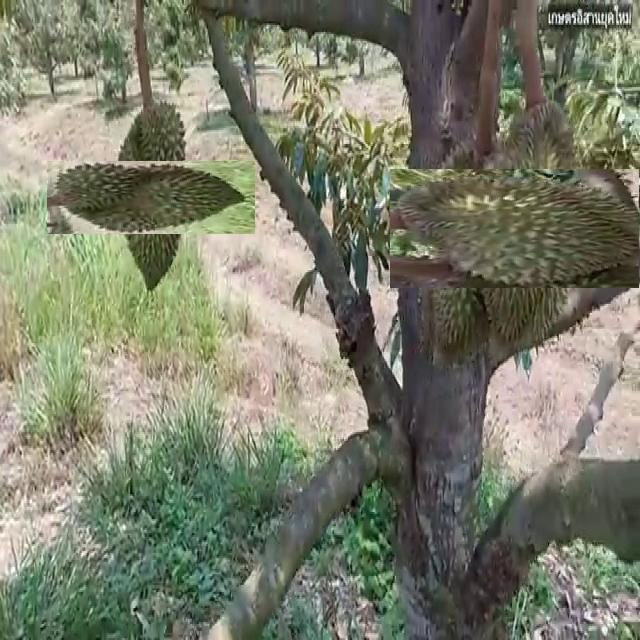durian: (428, 130, 623, 326), (428, 129, 520, 378), (81, 126, 222, 268)
